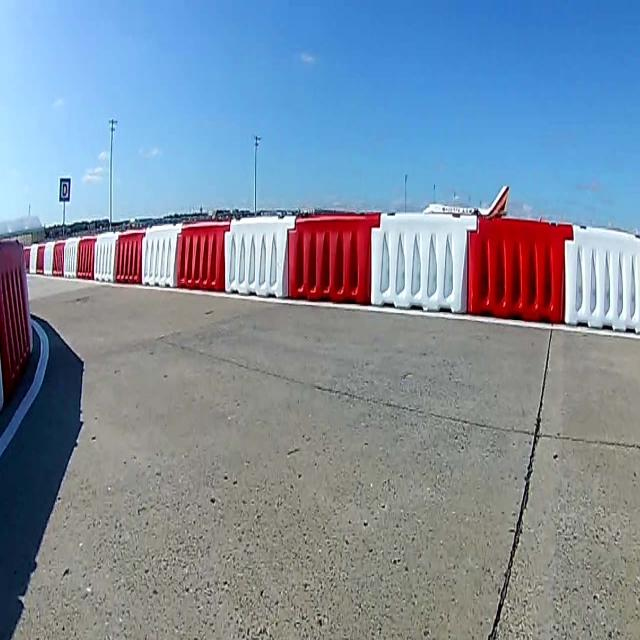durak: (58, 178, 72, 202)
